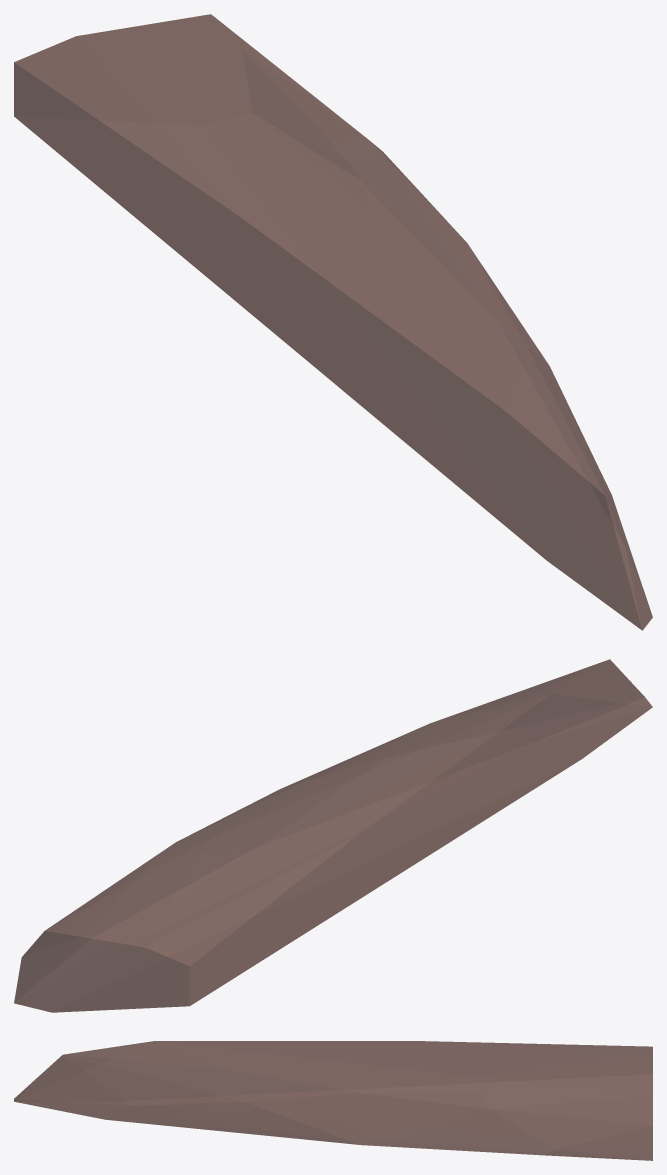
3 views of the same model, one above another, from view 1: azimuth 30°, elevation 25°; view 2: azimuth 150°, elevation 25°; view 3: azimuth 270°, elevation 25° (orthographic). The views are drawn at different scales.
Parts seen in each view (by area): view 1: Shape_IndexedFaceSet.084_Shape_IndexedFaceSet.6347; view 2: Shape_IndexedFaceSet.084_Shape_IndexedFaceSet.6347; view 3: Shape_IndexedFaceSet.084_Shape_IndexedFaceSet.6347.
Part boxes in pixels (<box>): Shape_IndexedFaceSet.084_Shape_IndexedFaceSet.6347: <box>14,14,652,630</box>; Shape_IndexedFaceSet.084_Shape_IndexedFaceSet.6347: <box>14,659,652,1012</box>; Shape_IndexedFaceSet.084_Shape_IndexedFaceSet.6347: <box>14,1041,652,1160</box>.
Size of the model in its own units: 0.0547 by 0.0261 by 0.2495.
